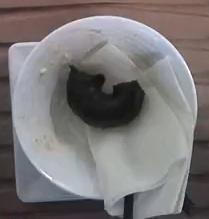donut: (67, 65, 145, 128)
